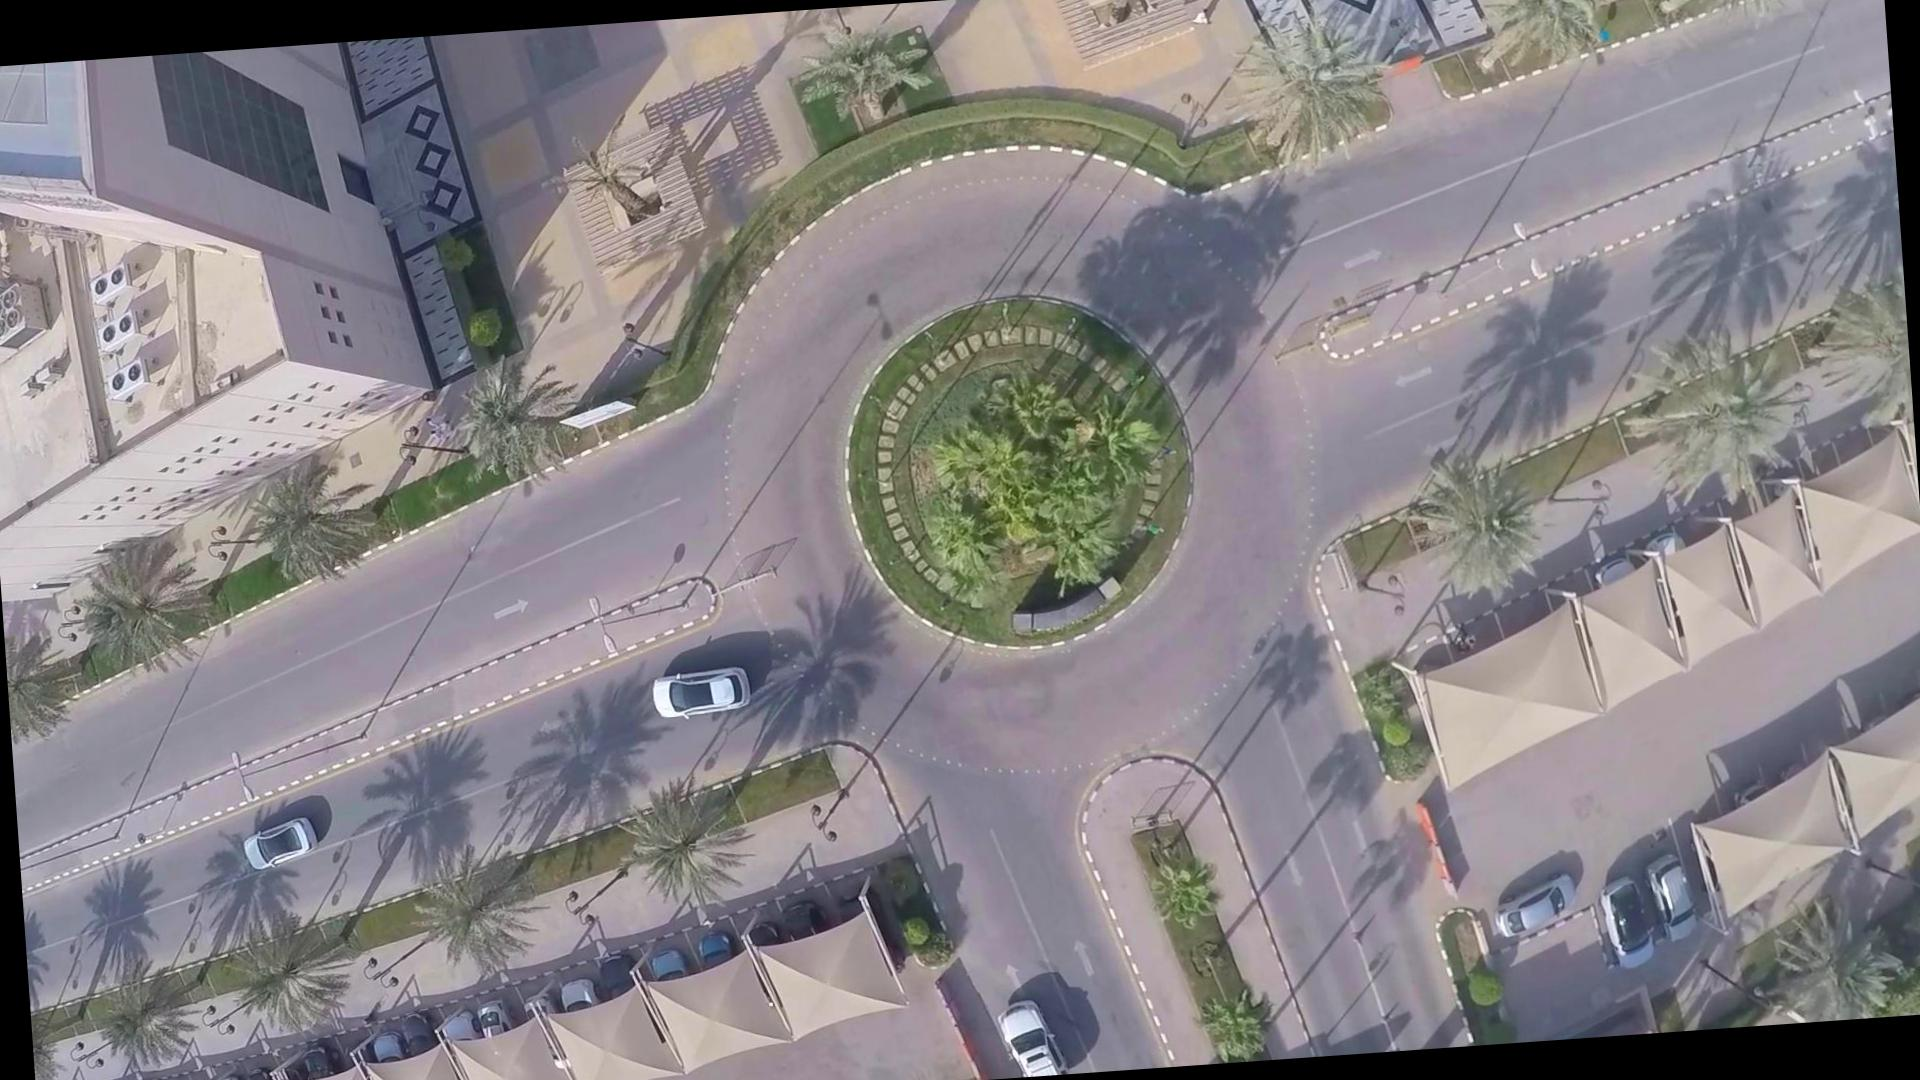vehicle: (636, 659, 748, 726), (222, 809, 326, 876)
